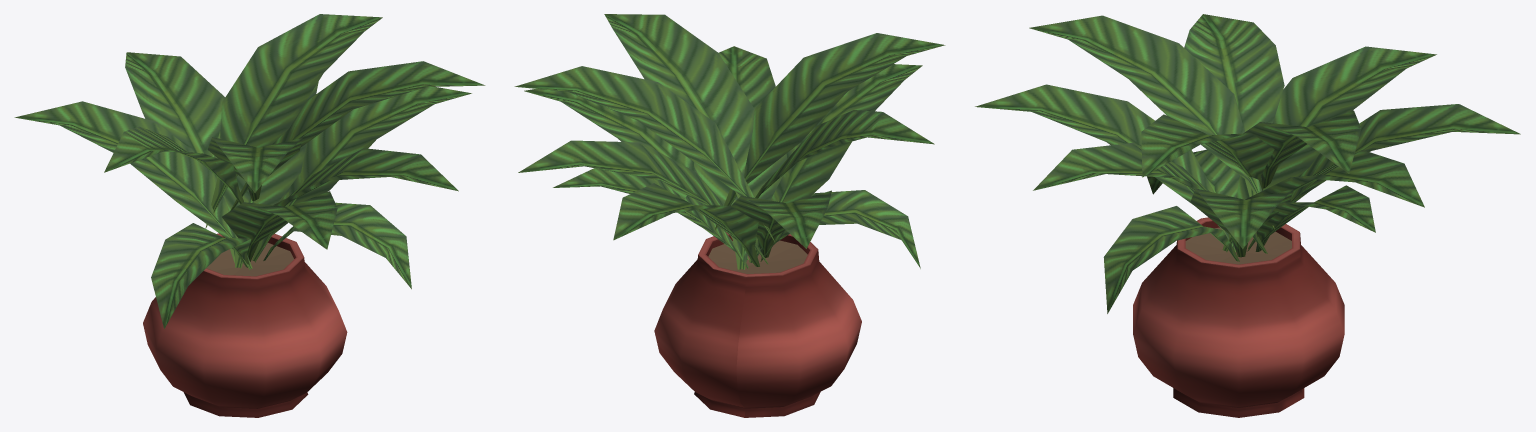
The model's file is TianZhuJiaoTang_01_lvsezhiwu_01.FBX.
The picture shows the model from 3 angles, left to right: view 1: azimuth 30°, elevation 25°; view 2: azimuth 150°, elevation 25°; view 3: azimuth 270°, elevation 25°; orthographic projection. The views are drawn at different scales.
Parts seen in each view (by area): view 1: TianZheJiaoTang_01_lvsezhiwu_01; view 2: TianZheJiaoTang_01_lvsezhiwu_01; view 3: TianZheJiaoTang_01_lvsezhiwu_01.
Boxes of the visible parts, bbox=[...] form: TianZheJiaoTang_01_lvsezhiwu_01: bbox=[14, 14, 485, 417]; TianZheJiaoTang_01_lvsezhiwu_01: bbox=[514, 14, 945, 417]; TianZheJiaoTang_01_lvsezhiwu_01: bbox=[975, 14, 1520, 417].
Size of the model in its own units: 640 by 480 by 723.
